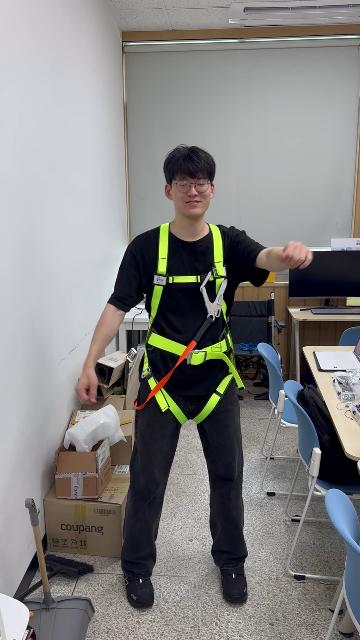helmet_not_worn: (162, 142, 218, 202)
shoe_worn: (124, 573, 153, 608), (220, 568, 248, 603)
vest_worn: (137, 228, 243, 419)
